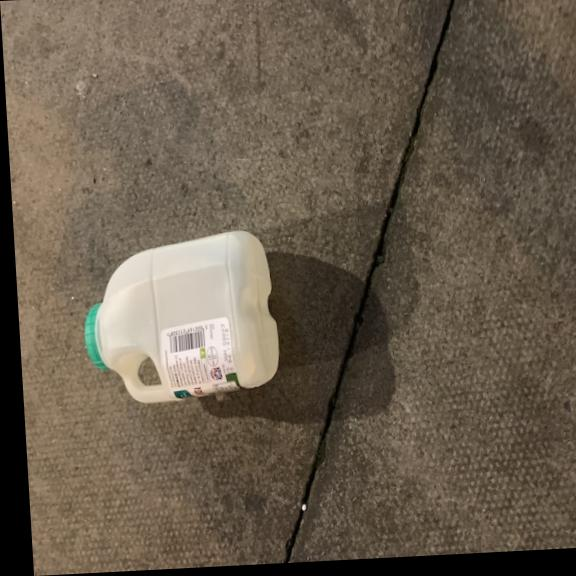Plastik: (80, 220, 283, 410)
